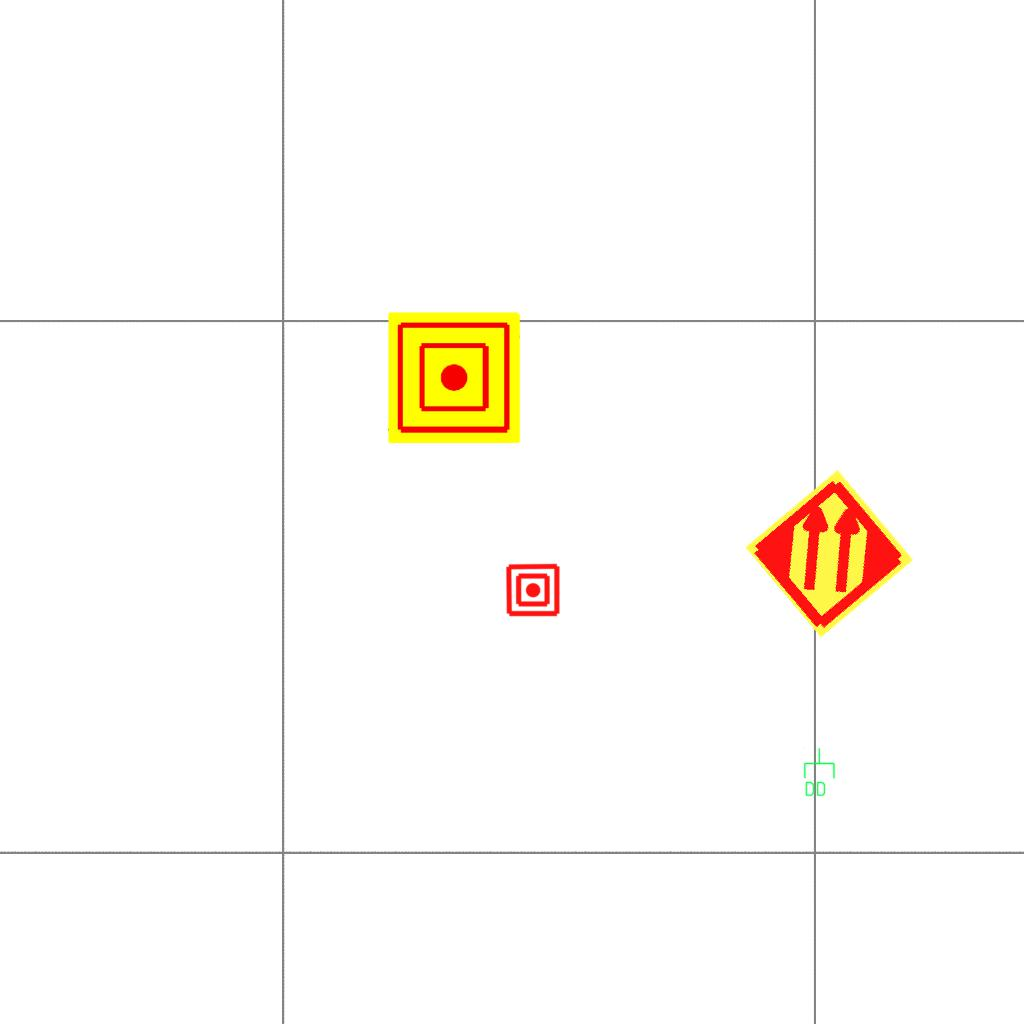ASR_Ansaugrauchmelder: (741, 465, 918, 642)
Datenanschluss_zweifach: (802, 747, 836, 798)
NAM-Nichtautomatischer_Melder: (388, 312, 520, 444), (505, 562, 561, 618)
